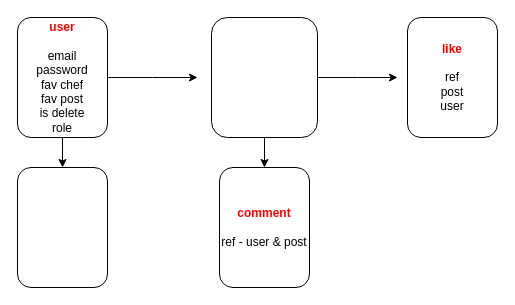
Image size: 515x305. Some labels were removed from this diagram. Here are the shapes that lost their labels. From the top down, the centre of each, then its label:
At [264,77]: "post ref _ user & chef video images Recipe role ref - comment".
At [62,227]: "role admin user chef".
